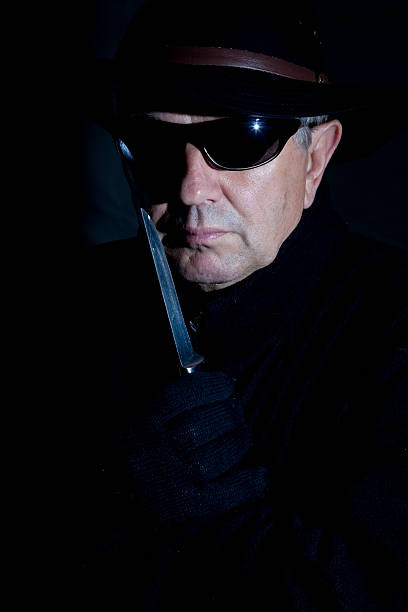knife: (135, 205, 207, 371)
